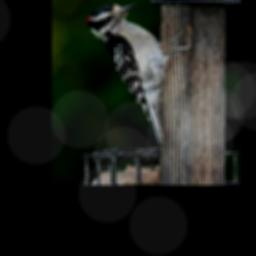Woodpecker: (86, 3, 192, 152)
